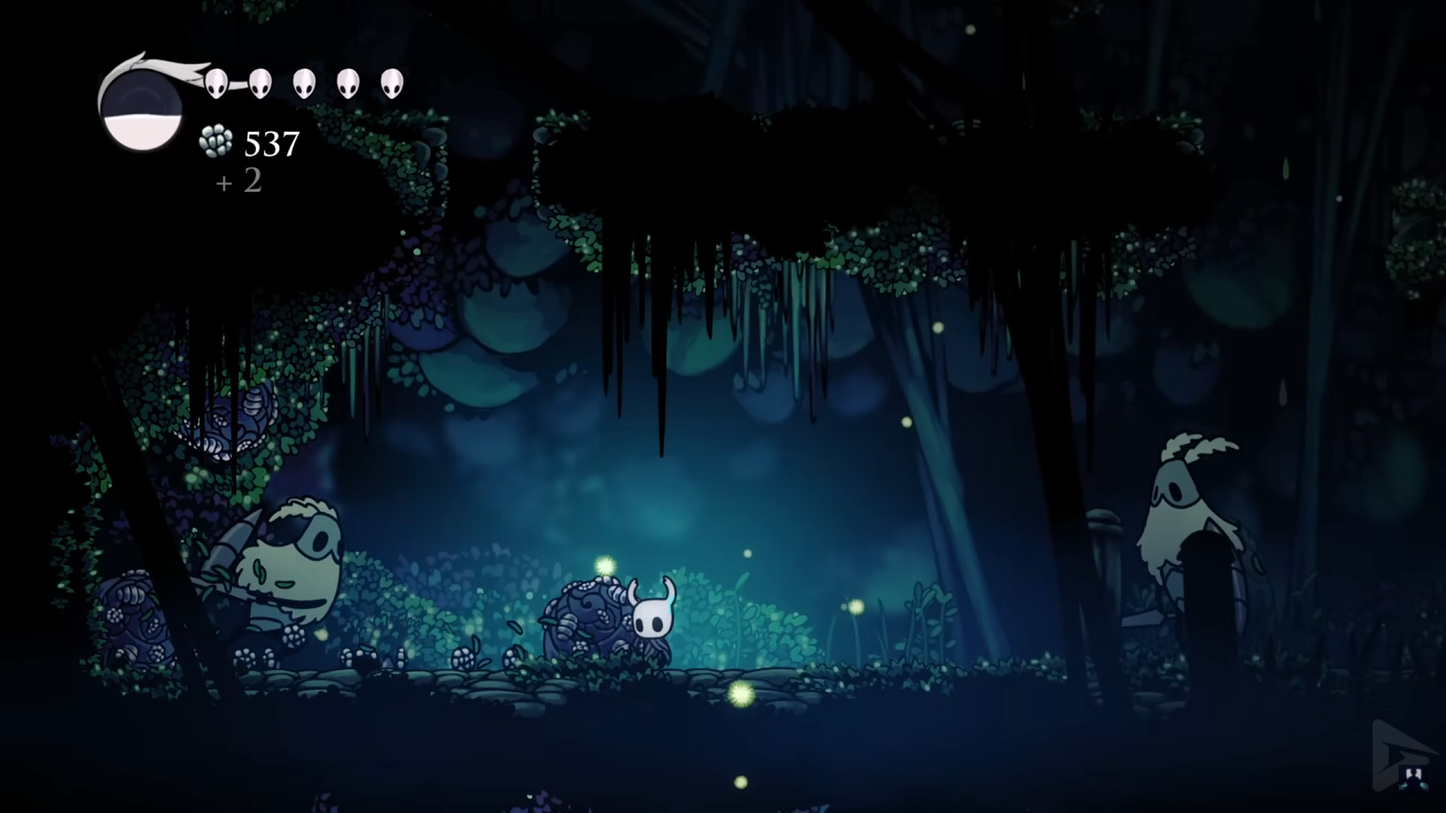HK: (626, 574, 679, 670)
